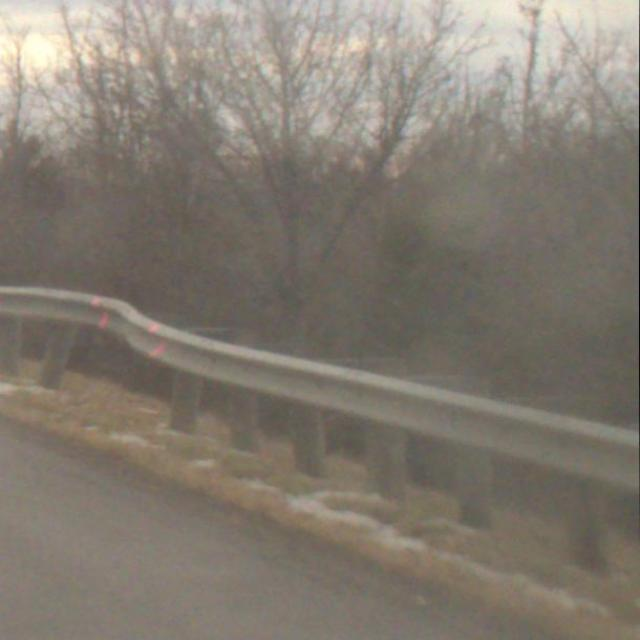Guard rail: (0, 277, 640, 595)
